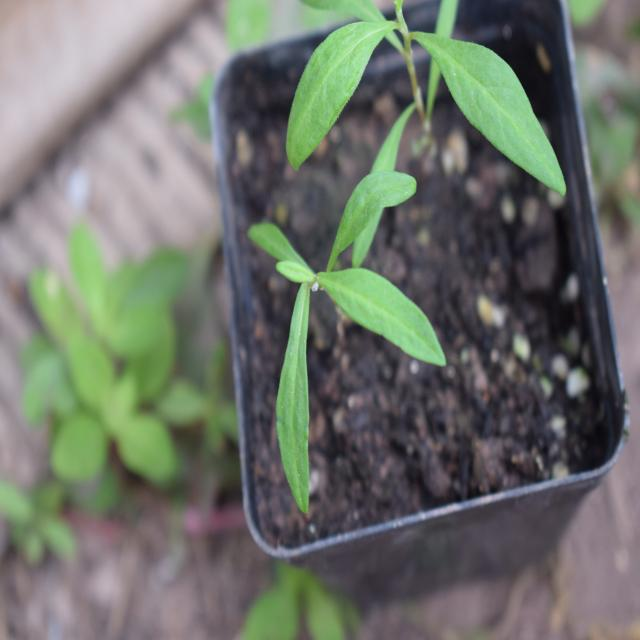white_smart_weed: (225, 171, 464, 504)
